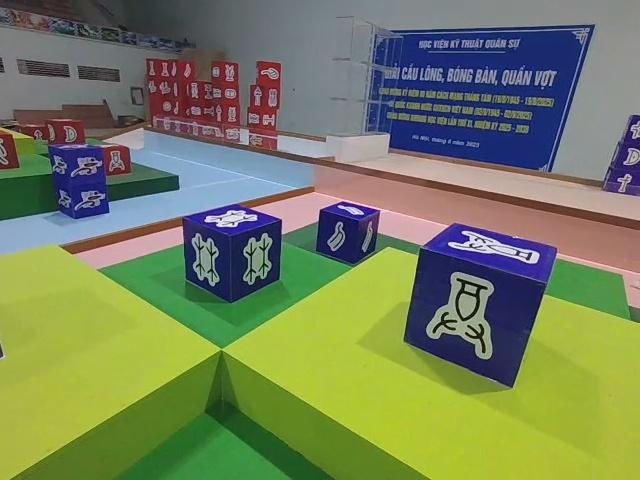R2 Real Blue: (406, 223, 561, 394), (179, 206, 282, 307), (316, 201, 382, 265)
